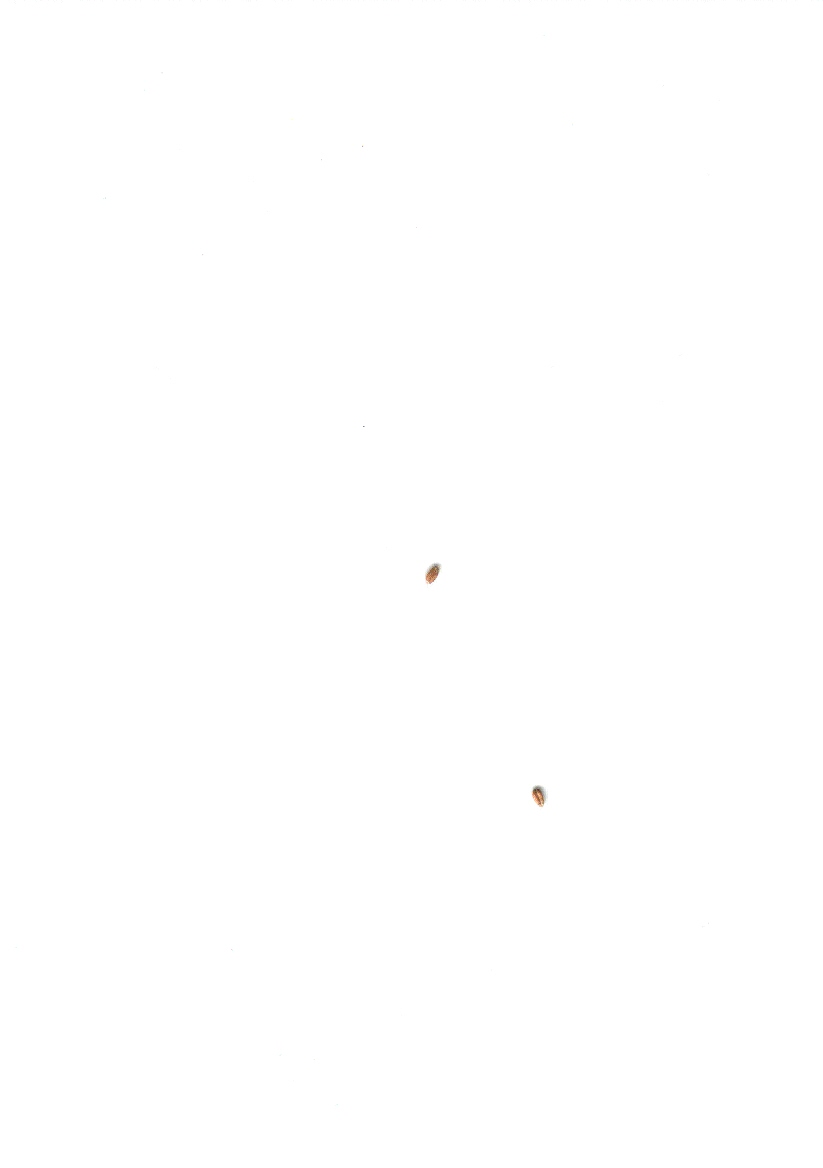grains: (516, 775, 571, 823), (416, 556, 447, 595)
